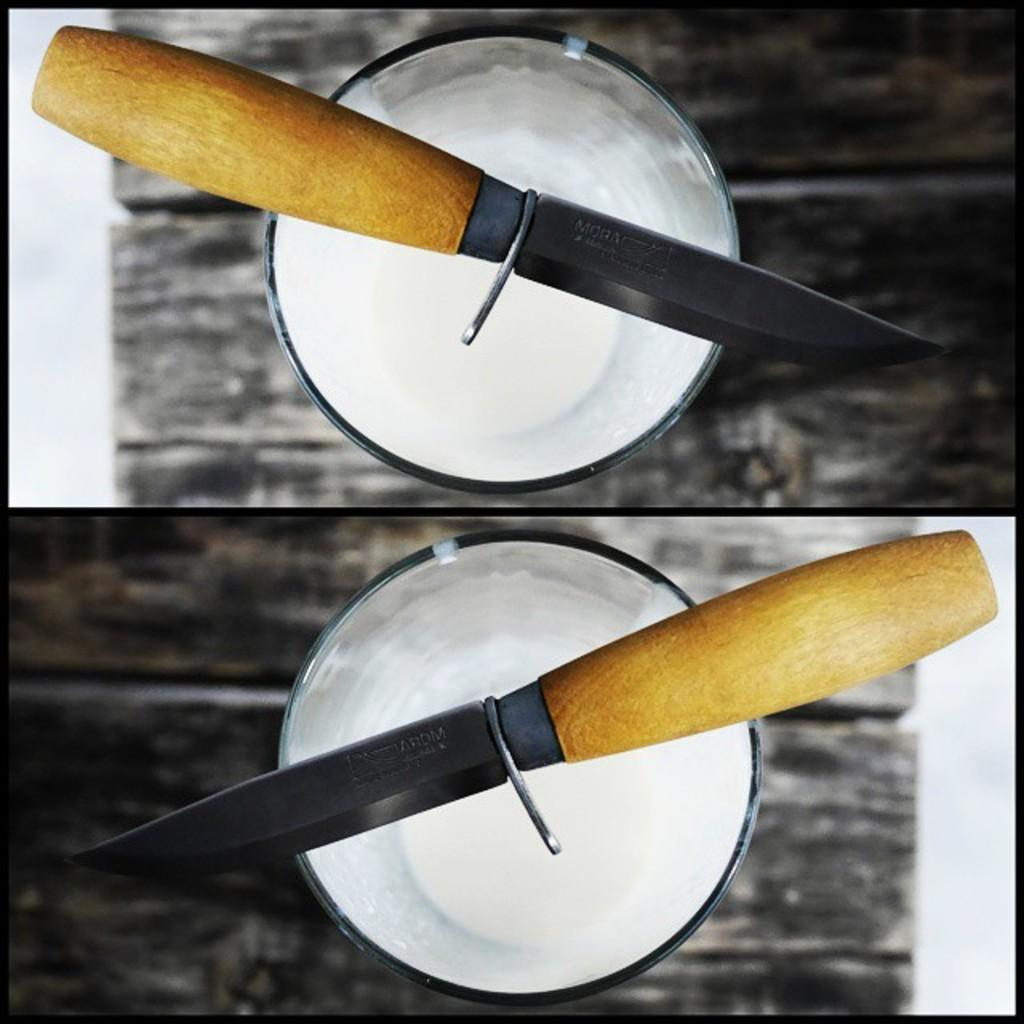knife: (72, 526, 1005, 860), (20, 18, 950, 352)
